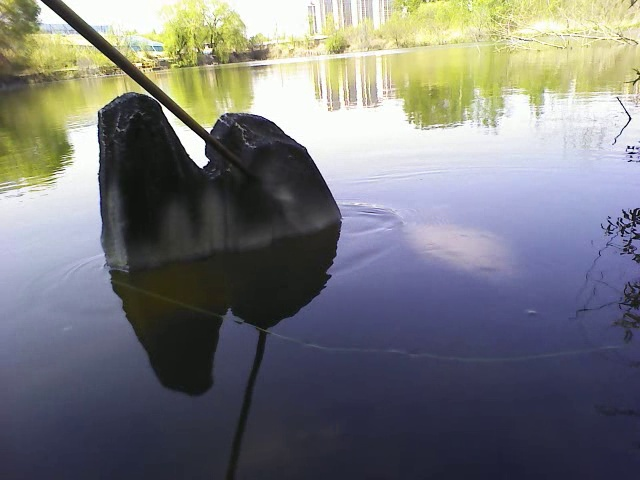rock: (96, 86, 348, 260)
